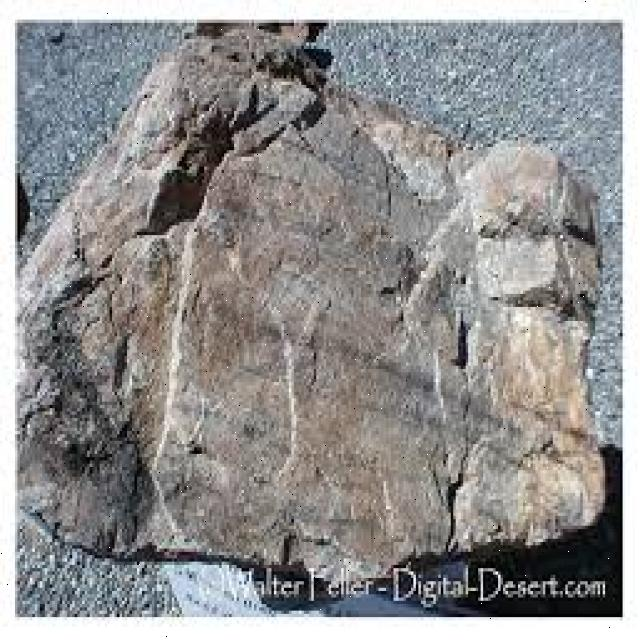Metamorphic: (27, 29, 603, 548)
